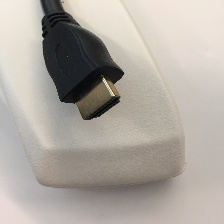hdmi_male: (65, 92, 157, 174)
